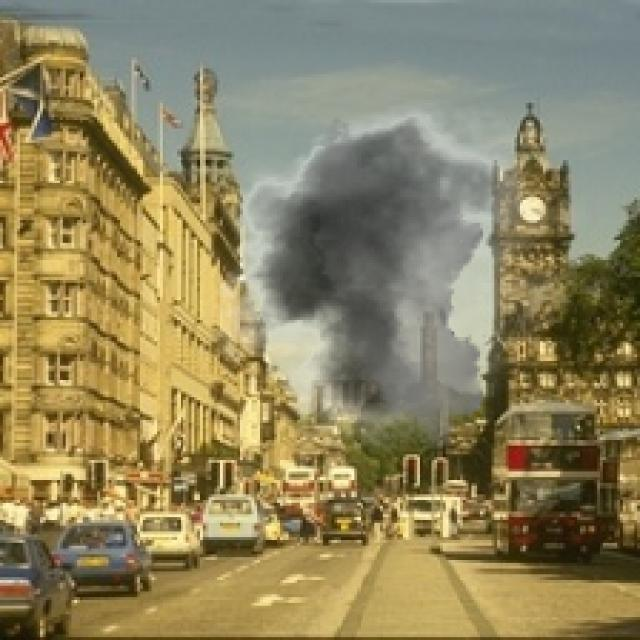Smoke: (194, 86, 589, 452)
